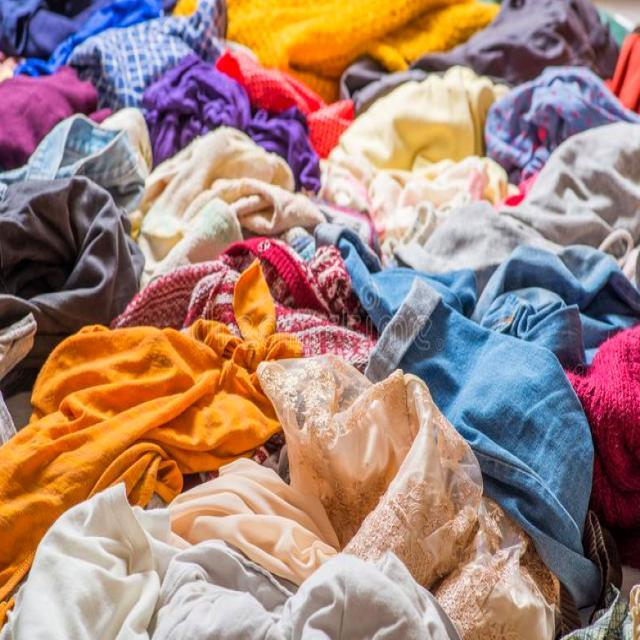clothes: (318, 204, 635, 602), (170, 344, 557, 640), (0, 257, 293, 640), (6, 457, 460, 640), (100, 223, 376, 379), (187, 0, 500, 104), (152, 58, 328, 194), (517, 112, 640, 296), (555, 312, 640, 566), (332, 70, 487, 208), (467, 54, 640, 176), (63, 9, 223, 125)
